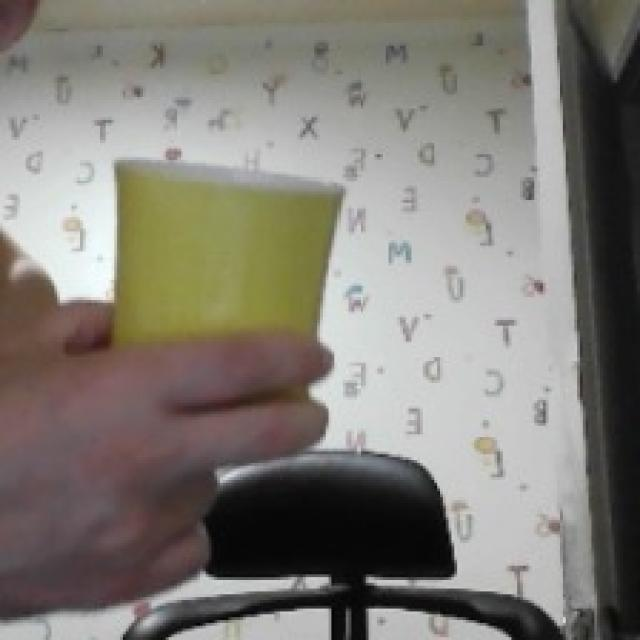cup: (114, 160, 343, 340)
